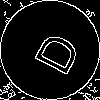D: (25, 25, 82, 78)
